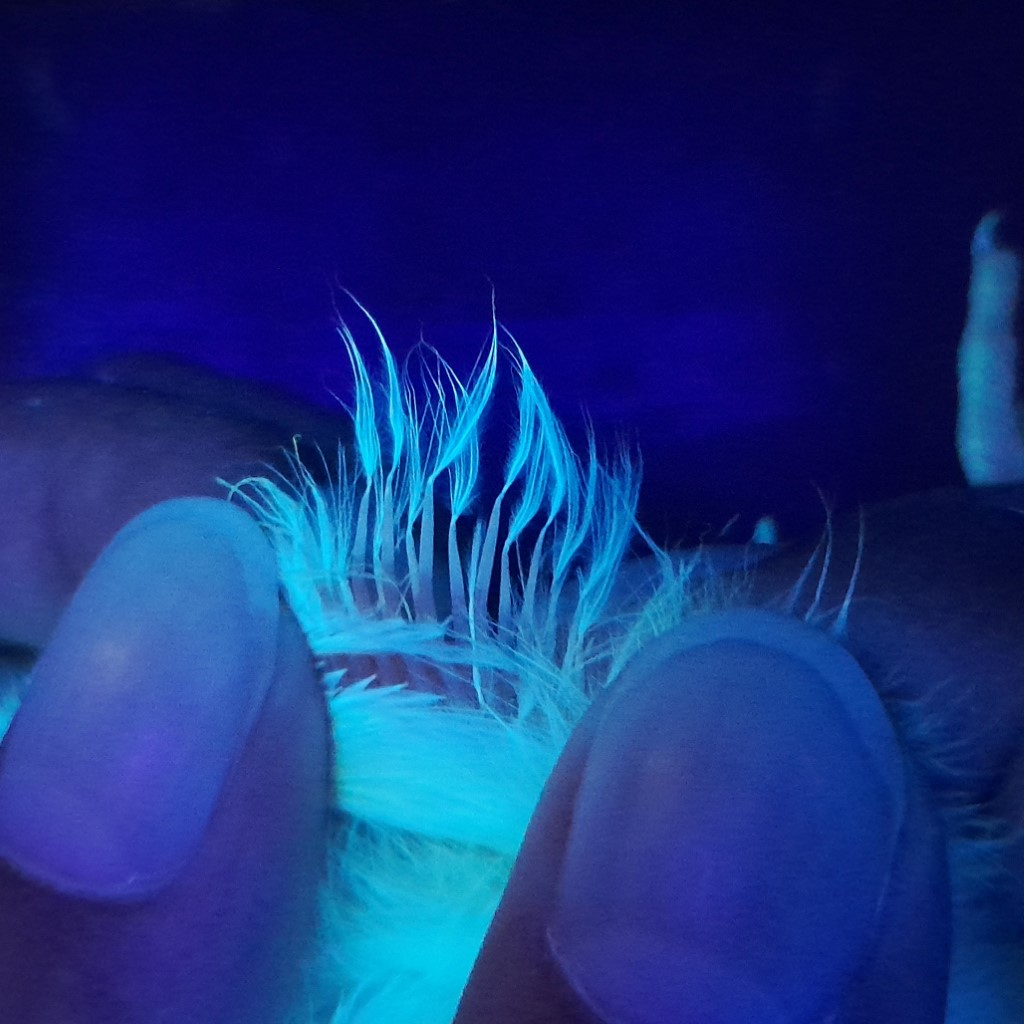male: (283, 446, 607, 737)
